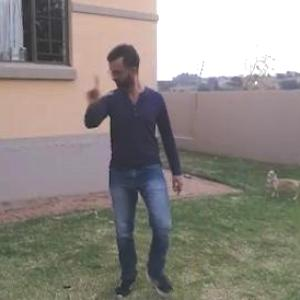land_hand: (79, 71, 115, 107)
